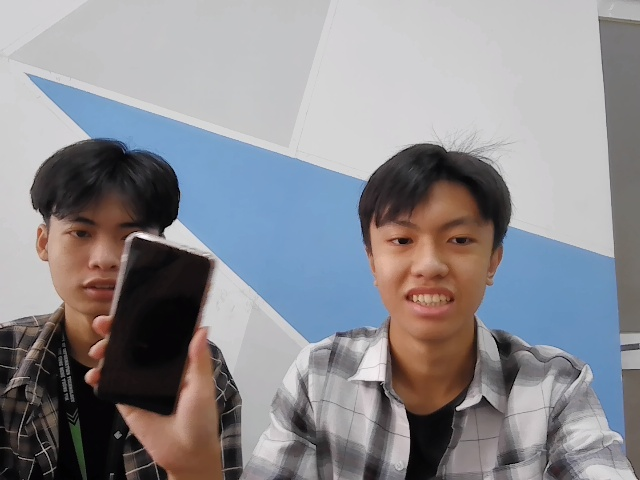human: (29, 123, 179, 325), (363, 137, 508, 341)
phone: (96, 231, 208, 417)
